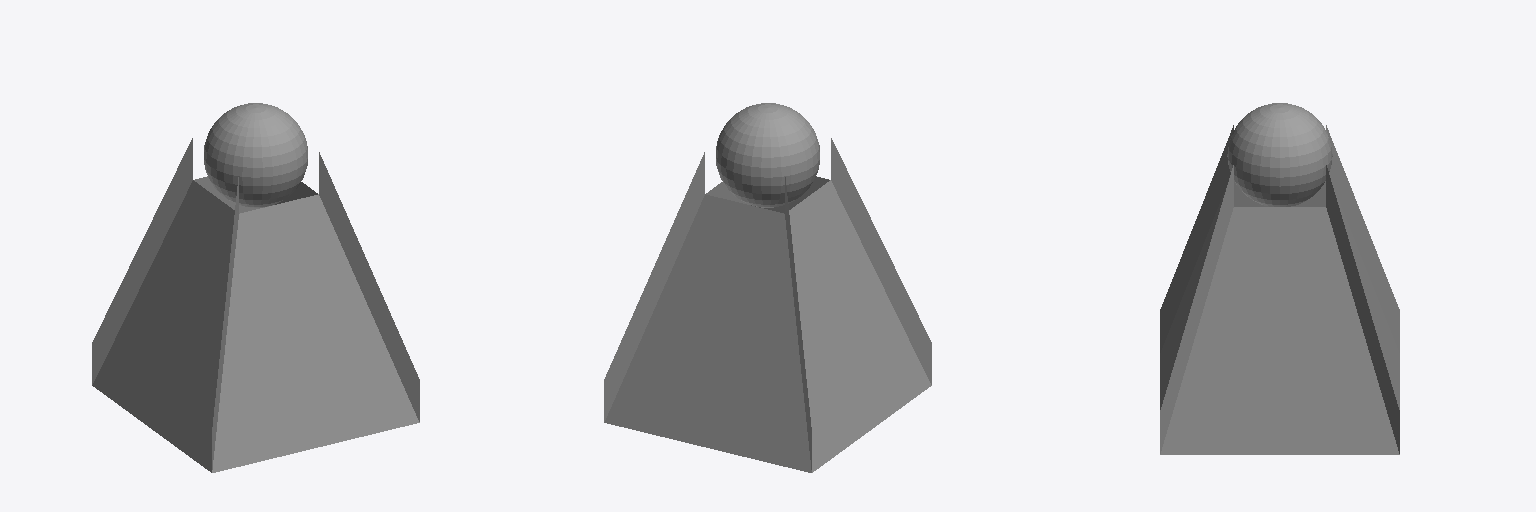
The model's file is transistor.obj.
The picture shows the model from 3 angles: view 1: azimuth 30°, elevation 25°; view 2: azimuth 150°, elevation 25°; view 3: azimuth 270°, elevation 25°; orthographic projection.
Parts seen in each view (by area): view 1: Cube; view 2: Cube; view 3: Cube.
Part boxes in pixels (x1,y1,x2,y2): Cube: (92, 103, 419, 472); Cube: (604, 103, 931, 472); Cube: (1160, 103, 1399, 454).
Size of the model in its own units: 2 by 2.73 by 2.